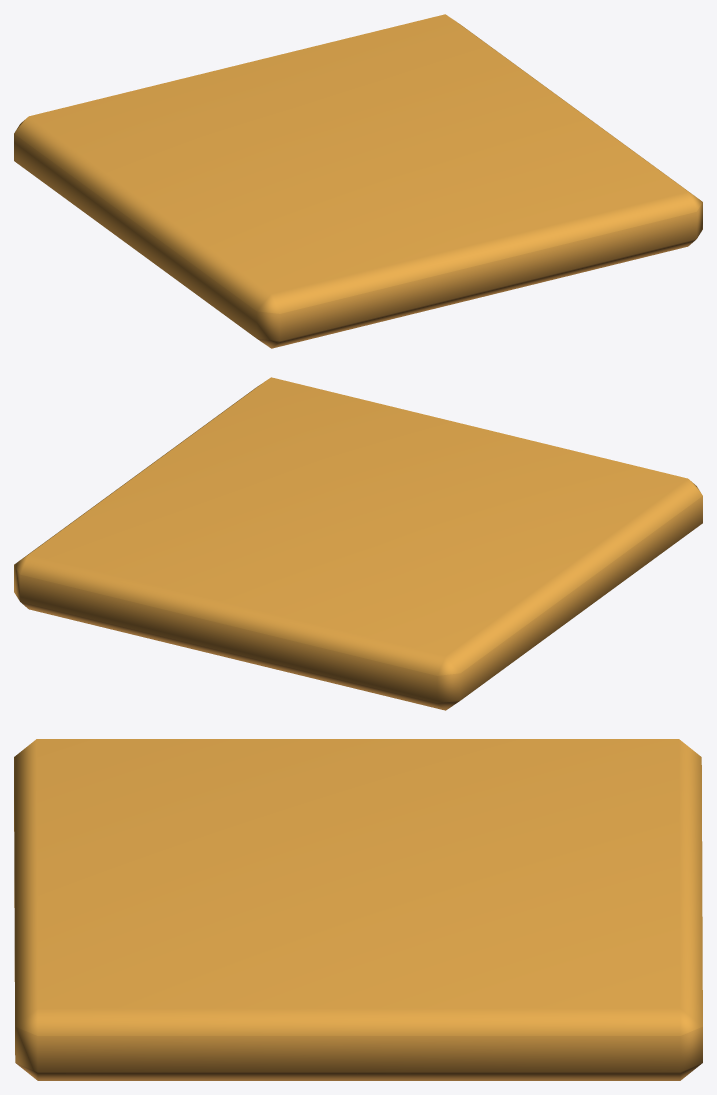
The model's file is rock_top_4x4.fbx.
The picture shows the model from 3 angles, top to bottom: view 1: azimuth 30°, elevation 25°; view 2: azimuth 150°, elevation 25°; view 3: azimuth 270°, elevation 25°; orthographic projection. The views are drawn at different scales.
Visible parts, largest first — view 1: rock_top_4x4; view 2: rock_top_4x4; view 3: rock_top_4x4.
Part boxes in pixels (x1=…): rock_top_4x4: x1=14, y1=14, x2=702, y2=348; rock_top_4x4: x1=14, y1=377, x2=702, y2=710; rock_top_4x4: x1=14, y1=739, x2=702, y2=1080.
Size of the model in its own units: 427 by 50 by 431.
Materials: 1 (1 with a texture image).
